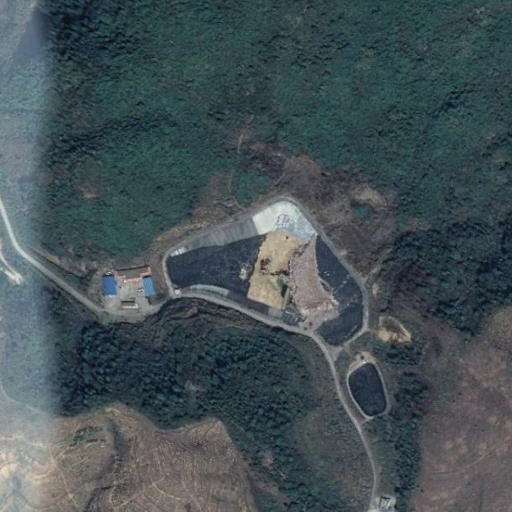lf: (163, 198, 367, 345)
